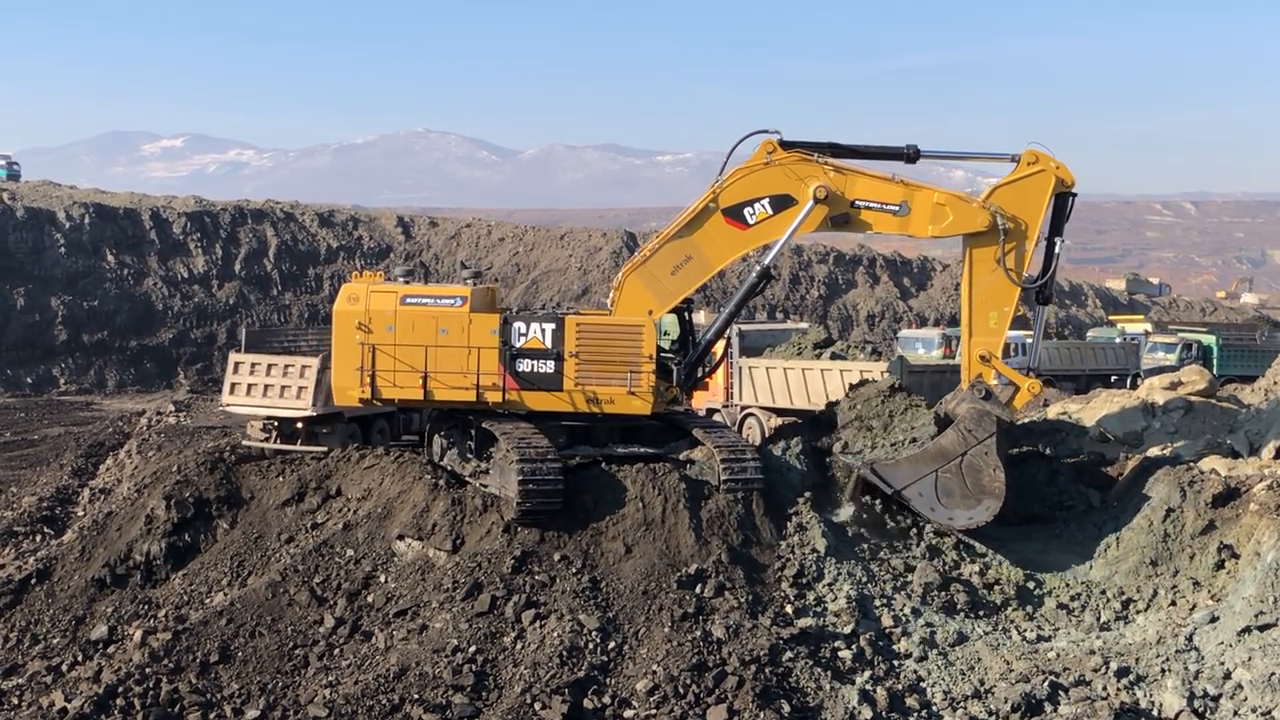full: (836, 379, 1028, 533)
